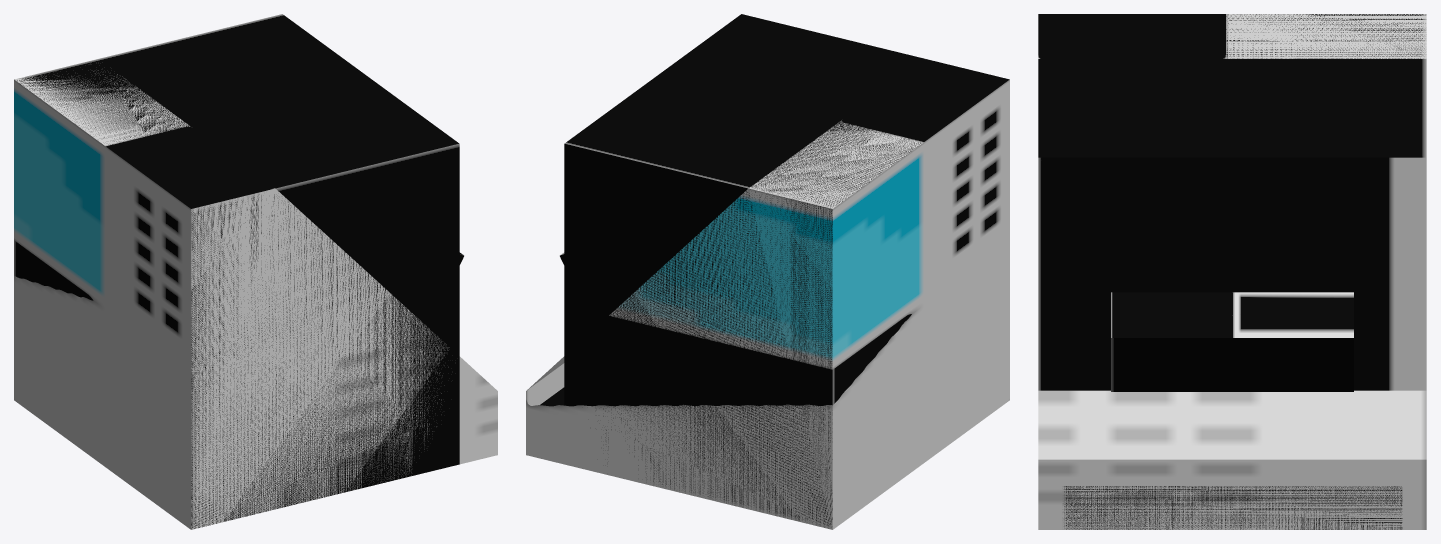
3 views of the same model, side by side, from view 1: azimuth 30°, elevation 25°; view 2: azimuth 150°, elevation 25°; view 3: azimuth 270°, elevation 25° (orthographic). The views are drawn at different scales.
Visible parts, largest first — view 1: pc_top, pc_base; view 2: pc_top, pc_base; view 3: pc_base, pc_top.
Part boxes in pixels (box(x1,y1,x2,y2)): pc_top: box(14, 70, 497, 529); pc_base: box(14, 14, 463, 528); pc_top: box(526, 79, 1009, 529); pc_base: box(540, 14, 1009, 529); pc_base: box(1038, 14, 1426, 529); pc_top: box(1038, 14, 1426, 529).
Bounding box in the file's own units: 1 × 1 × 1.
